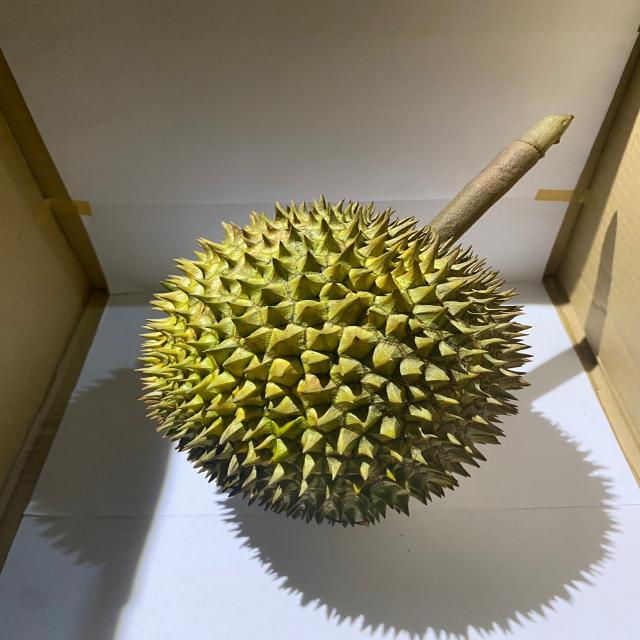immature: (133, 195, 534, 528)
